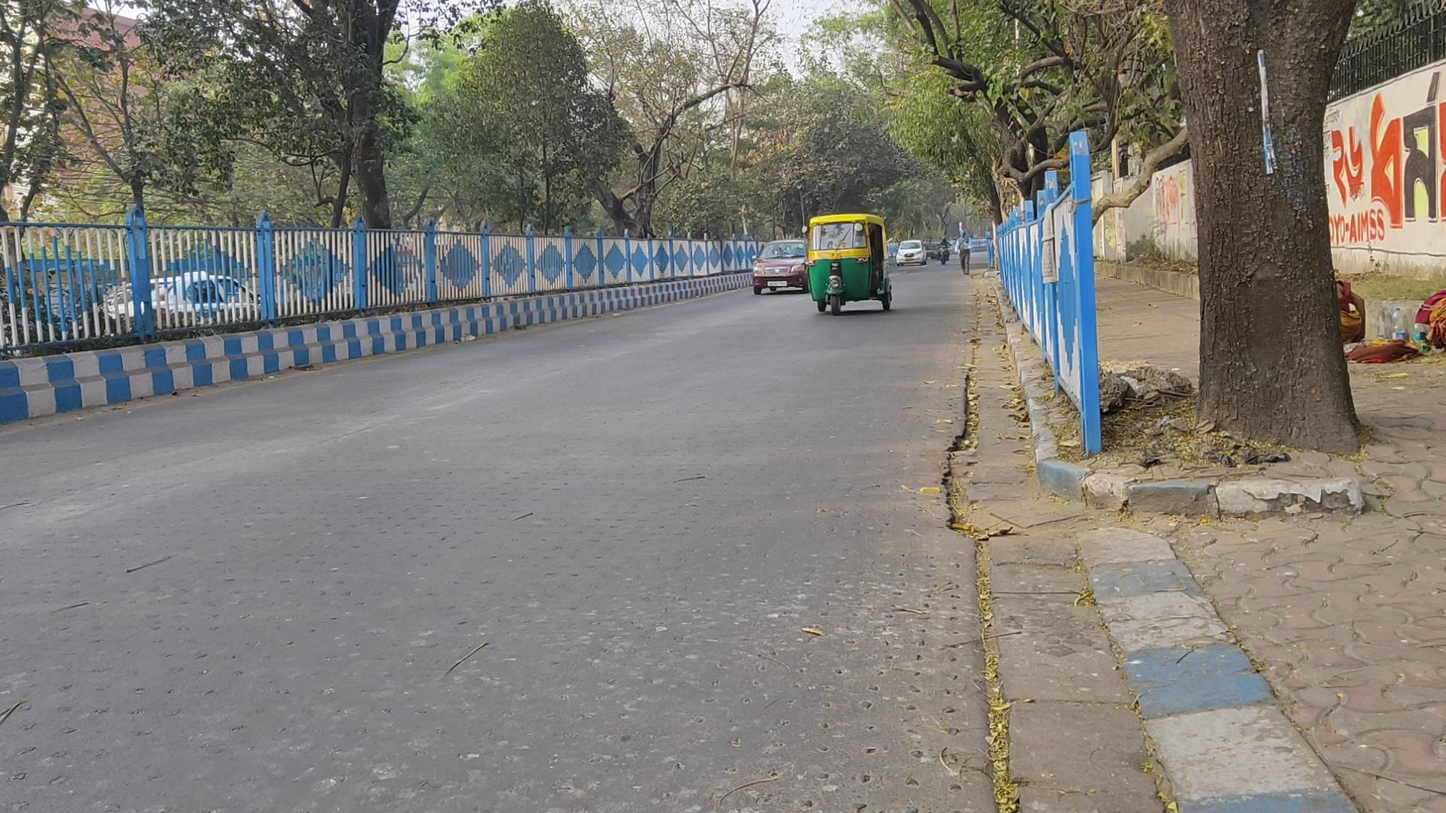Auto: (801, 214, 890, 315)
bike: (935, 236, 953, 265)
car: (750, 239, 810, 297), (895, 239, 928, 268)
